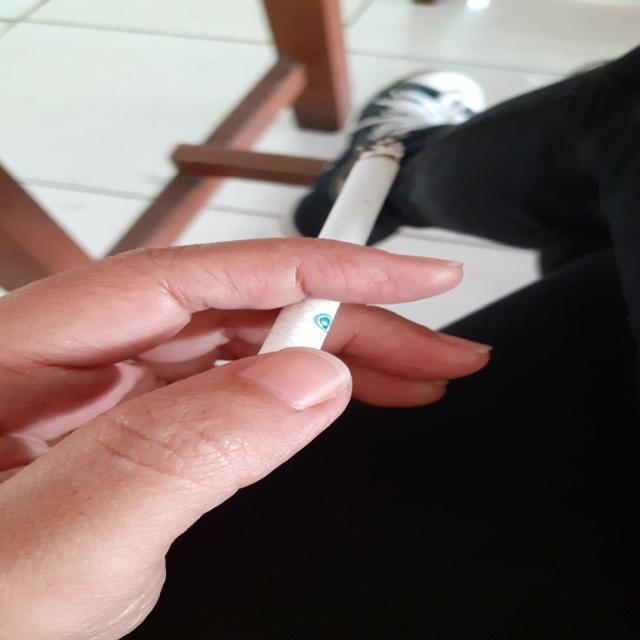rokok: (256, 142, 406, 358)
